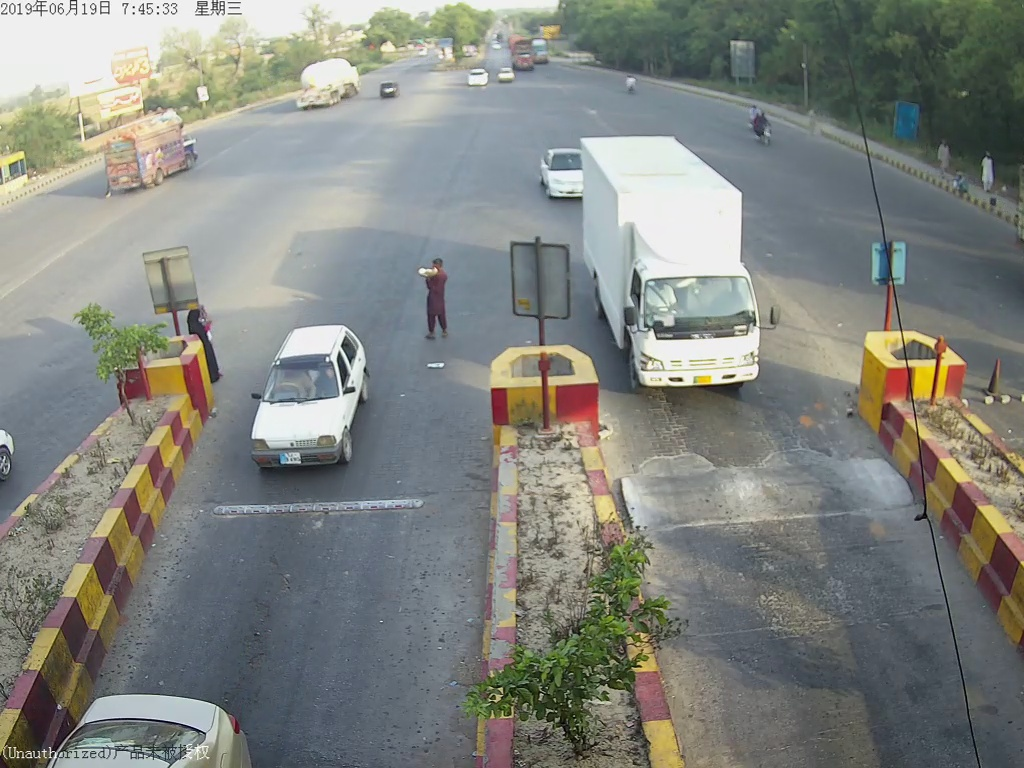Cat-1: (245, 324, 375, 475)
Cat-2: (585, 144, 784, 403)
